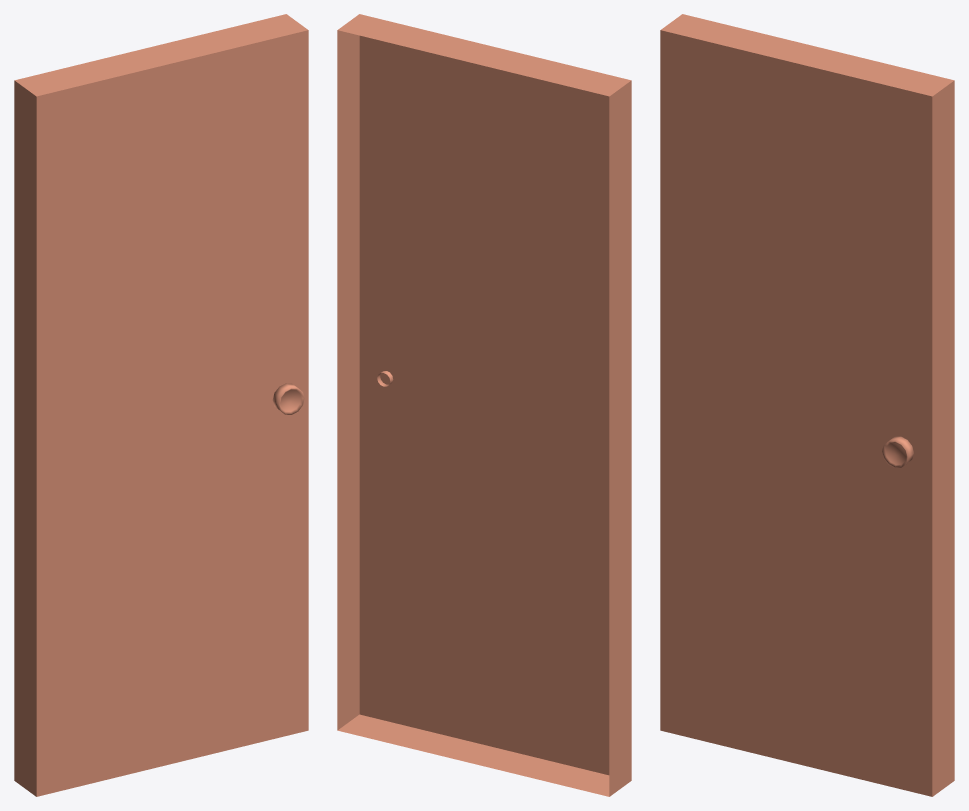
The model's file is Door.fbx.
3 renders of one model, left to right at view 1: azimuth 30°, elevation 25°; view 2: azimuth 150°, elevation 25°; view 3: azimuth 330°, elevation 25°, orthographic.
Visible parts, largest first — view 1: Door; view 2: Door; view 3: Door.
Part boxes in pixels (box(x1,y1,x2,y2)): Door: box(14, 14, 308, 796); Door: box(337, 14, 631, 796); Door: box(660, 14, 954, 796).
Bounding box in the file's own units: 82.5 × 17.04 × 203.
